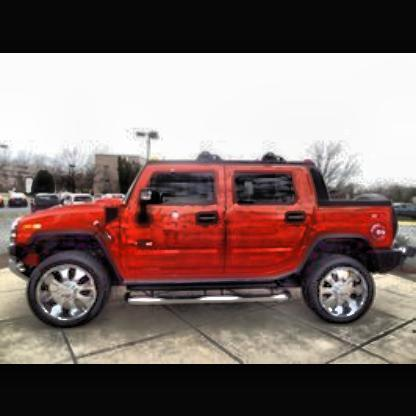HUMMER H2 SUT Crew Cab 2009: (11, 166, 400, 331)
